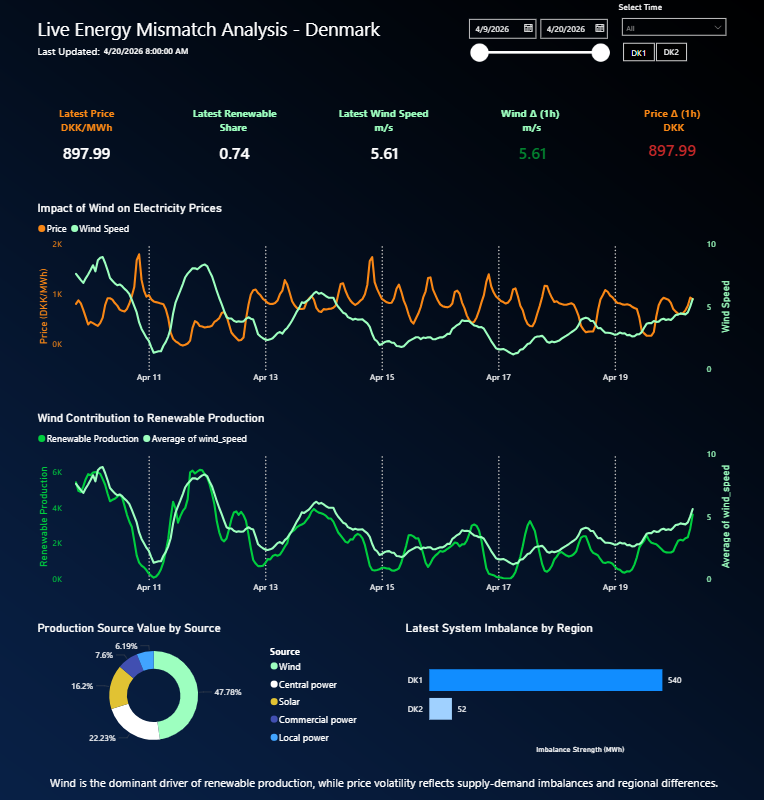

The dashboard page shown, as its layout file describes it:
{"tool":"powerbi","page":{"name":"Page 2","canvas":[1100,1150],"ordinal":1},"visuals":[{"type":"cardVisual","title":"Latest Price (DKK/MWh)","fields":{"Data":["live_dashboard_data.Latest Price"]},"box":[50,175,150,80],"z":0},{"type":"cardVisual","title":"Latest Renewable Share (%)","fields":{"Data":["live_dashboard_data.Latest Renewable Share"]},"box":[262,175,150,80],"z":1000},{"type":"cardVisual","title":"Latest Wind Speed (m/s)","fields":{"Data":["live_dashboard_data.Latest Wind Speed"]},"box":[475,175,150,80],"z":2000},{"type":"slicer","title":"Select Time","fields":{"Values":["live_dashboard_data.HourUTC"]},"box":[880,5.6,168.9,57.8],"z":3000},{"type":"cardVisual","title":"Last Updated (Local Time)","fields":{"Data":["live_dashboard_data.Last Updated"]},"box":[144.5,57.3,144.5,33.6],"z":4000},{"type":"cardVisual","title":"Wind Δ (1h) (m/s)","fields":{"Data":["live_dashboard_data.Wind Δ (1h)"]},"box":[687,175,150,80],"z":5000},{"type":"cardVisual","title":"Price Δ (1h) (DKK)","fields":{"Data":["live_dashboard_data.Price Δ (1h)"]},"box":[899,175.5,131.8,80],"z":6000},{"type":"slicer","title":"Select Date","fields":{"Values":["live_dashboard_data.HourUTC"]},"box":[659.1,20,222.7,77.3],"z":7000},{"type":"lineChart","title":"Impact of Wind on Electricity Prices","fields":{"Y":["Avg(live_dashboard_data.SpotPriceDKK)"],"Category":["live_dashboard_data.HourUTC"],"Y2":["Avg(live_dashboard_data.wind_speed)"]},"box":[50,290,1000,270],"z":8000},{"type":"lineChart","title":"Wind Contribution to Renewable Production","fields":{"Category":["live_dashboard_data.HourUTC"],"Y2":["Avg(live_dashboard_data.wind_speed)"],"Y":["Sum(live_dashboard_data.renewable)"]},"box":[50,590,1000,270],"z":9000},{"type":"clusteredBarChart","title":"Latest System Imbalance by Region","fields":{"Category":["live_dashboard_data.PriceArea"],"Y":["live_dashboard_data.Latest Mismatch Strength"]},"box":[575,890,475,193.6],"z":10000},{"type":"textbox","box":[0,1105.6,1100,33.3],"z":11000},{"type":"slicer","fields":{"Values":["live_dashboard_data.PriceArea"]},"box":[865.6,56.7,141.1,37.8],"z":12000},{"type":"textbox","box":[50,20,515.6,47.8],"z":13000},{"type":"textbox","box":[75.5,149.1,99.1,50.9],"z":14000},{"type":"textbox","box":[257.3,149.1,159.1,50.9],"z":15000},{"type":"textbox","box":[470,149.1,159.1,50.9],"z":16000},{"type":"textbox","box":[681.8,149.1,159.1,50.9],"z":17000},{"type":"textbox","box":[884.5,149.1,159.1,50.9],"z":18000},{"type":"textbox","box":[50,60,114.5,30.9],"z":19000},{"type":"donutChart","fields":{"Category":["Production Source.Source"],"Y":["live_dashboard_data.Production Source Value"]},"box":[50,890,475,193.6],"z":20000}]}

Visuals, with their boxes in screenshot pixels (x1, y1, x2, y2), scaled from the page's 1100x1150 canvas onto the 764x800 screenshot:
"Latest Price (DKK/MWh)" cardVisual: 35 122 139 177
"Latest Renewable Share (%)" cardVisual: 182 122 286 177
"Latest Wind Speed (m/s)" cardVisual: 330 122 434 177
"Select Time" slicer: 611 4 729 44
"Last Updated (Local Time)" cardVisual: 100 40 201 63
"Wind Δ (1h) (m/s)" cardVisual: 477 122 581 177
"Price Δ (1h) (DKK)" cardVisual: 624 122 716 178
"Select Date" slicer: 458 14 612 68
"Impact of Wind on Electricity Prices" lineChart: 35 202 729 390
"Wind Contribution to Renewable Production" lineChart: 35 410 729 598
"Latest System Imbalance by Region" clusteredBarChart: 399 619 729 754
textbox: 0 769 763 792
slicer - live_dashboard_data.PriceArea: 601 39 699 66
textbox: 35 14 393 47
textbox: 52 104 121 139
textbox: 179 104 289 139
textbox: 326 104 437 139
textbox: 474 104 584 139
textbox: 614 104 725 139
textbox: 35 42 114 63
donutChart - Production Source.Source x live_dashboard_data.Production Source Value: 35 619 365 754
